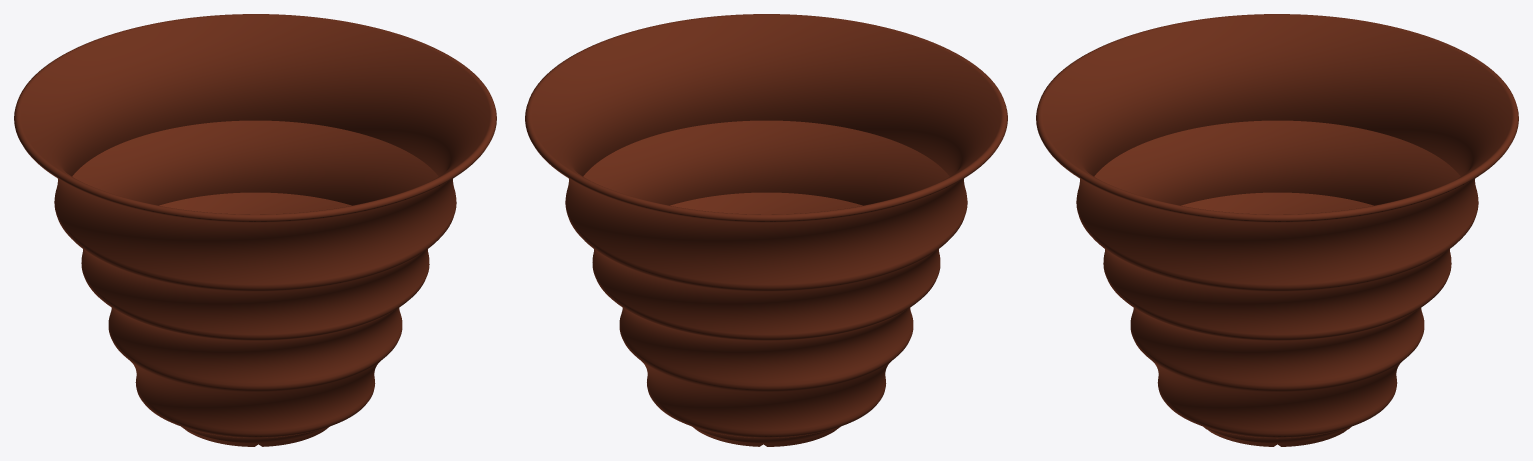
Rendered from vase9.glb.
The picture shows the model from 3 angles, left to right: view 1: azimuth 30°, elevation 25°; view 2: azimuth 150°, elevation 25°; view 3: azimuth 270°, elevation 25°; orthographic projection.
Parts seen in each view (by area): view 1: Vaso1; view 2: Vaso1; view 3: Vaso1.
Part boxes in pixels (x1,y1,x2,y2): Vaso1: [14, 14, 496, 446]; Vaso1: [525, 14, 1007, 446]; Vaso1: [1036, 14, 1518, 446].
Bounding box in the file's own units: 1.79 × 1.22 × 1.79.
